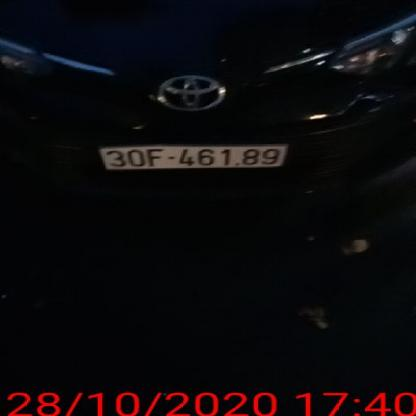biensoxe: (94, 135, 291, 177)
